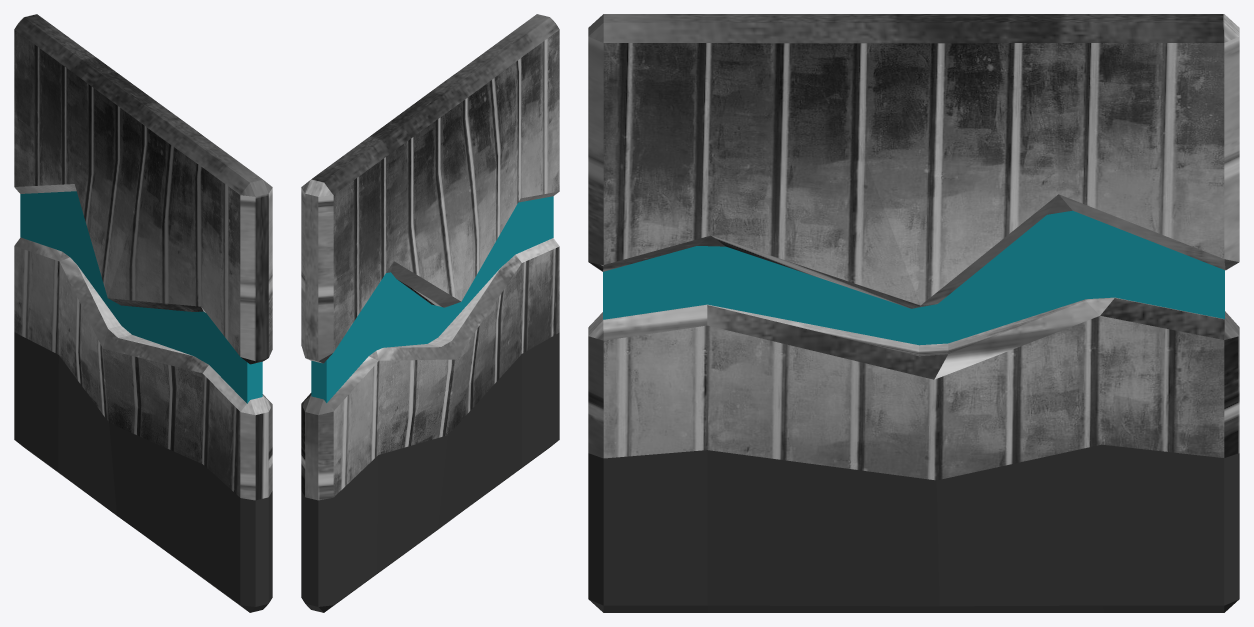
Rendered from wALL.fbx.
The picture shows the model from 3 angles, left to right: view 1: azimuth 30°, elevation 25°; view 2: azimuth 150°, elevation 25°; view 3: azimuth 270°, elevation 25°; orthographic projection. The views are drawn at different scales.
Parts seen in each view (by area): view 1: Cube, Cube.002, Cube.001; view 2: Cube, Cube.002, Cube.001; view 3: Cube, Cube.002, Cube.001.
Part boxes in pixels (x1,y1,x2,y2): Cube: (14,14,272,500); Cube.002: (14,332,272,612); Cube.001: (20,191,262,403); Cube: (301,14,559,500); Cube.002: (301,332,559,612); Cube.001: (311,196,553,403); Cube: (588,14,1239,480); Cube.002: (588,444,1239,612); Cube.001: (603,210,1224,345).
Size of the model in its own units: 68.5 by 429 by 429.
3 materials, 1 textured.
